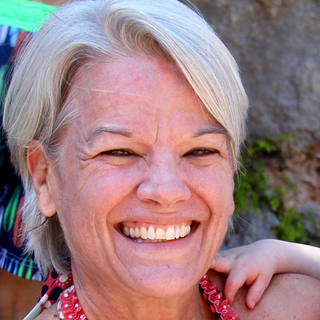eye: (90, 142, 144, 165), (178, 142, 226, 165)
